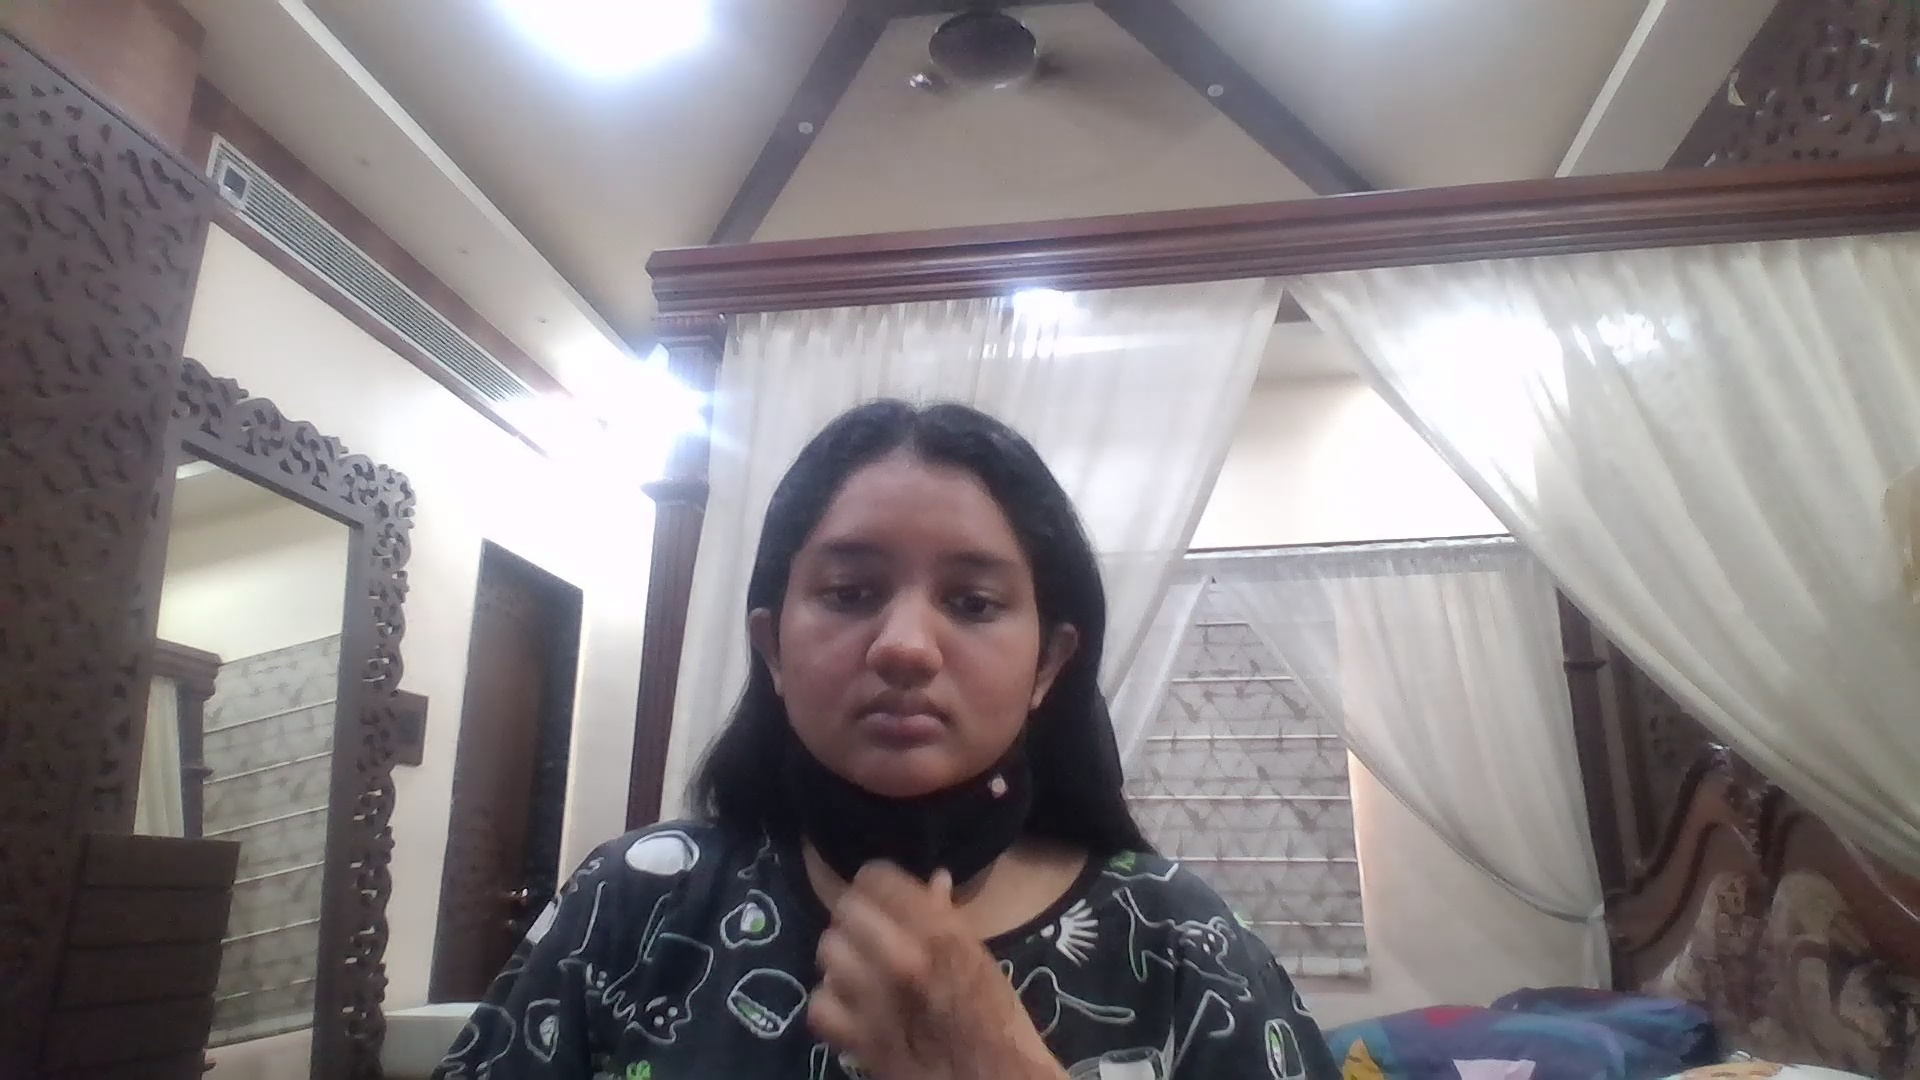No Mask: (784, 631, 1032, 805)
